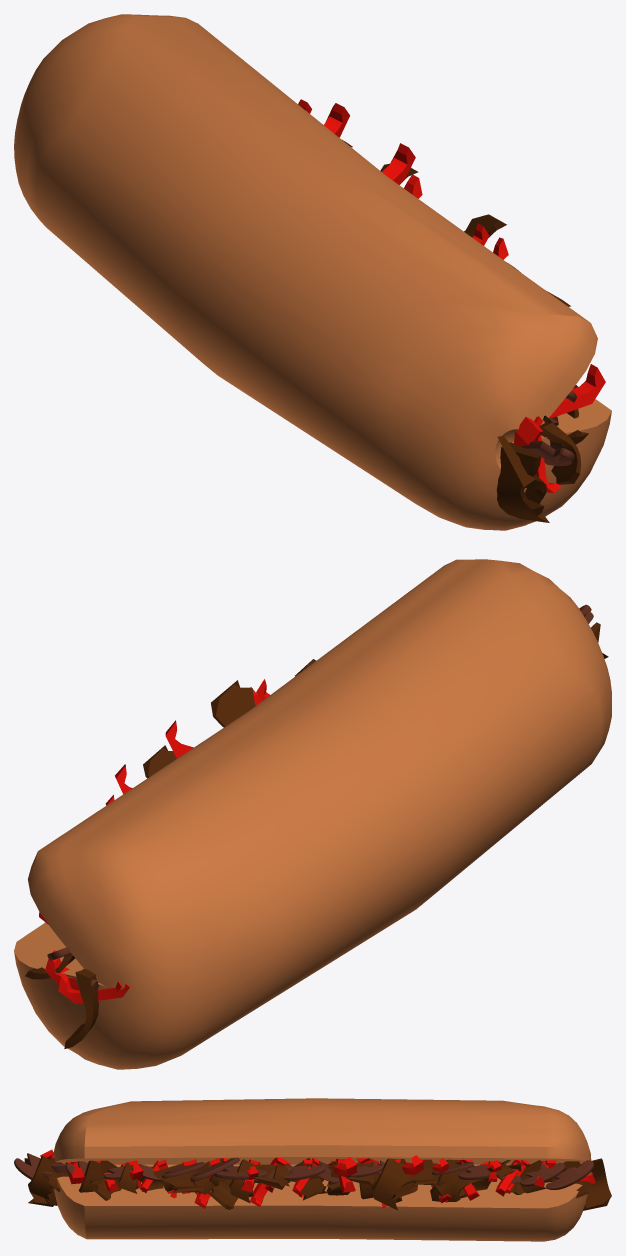
File: cHEESEsTEAK.fbx
The picture shows the model from 3 angles, top to bottom: view 1: azimuth 30°, elevation 25°; view 2: azimuth 150°, elevation 25°; view 3: azimuth 270°, elevation 25°; orthographic projection. The views are drawn at different scales.
Visible parts, largest first — view 1: Sphere.002; view 2: Sphere.002; view 3: Sphere.002.
Part boxes in pixels (left/top/right/bottom): Sphere.002: left=14, top=14, right=611, bottom=530; Sphere.002: left=14, top=559, right=611, bottom=1069; Sphere.002: left=14, top=1098, right=611, bottom=1241.
Bounding box in the file's own units: 266 × 201 × 868.
